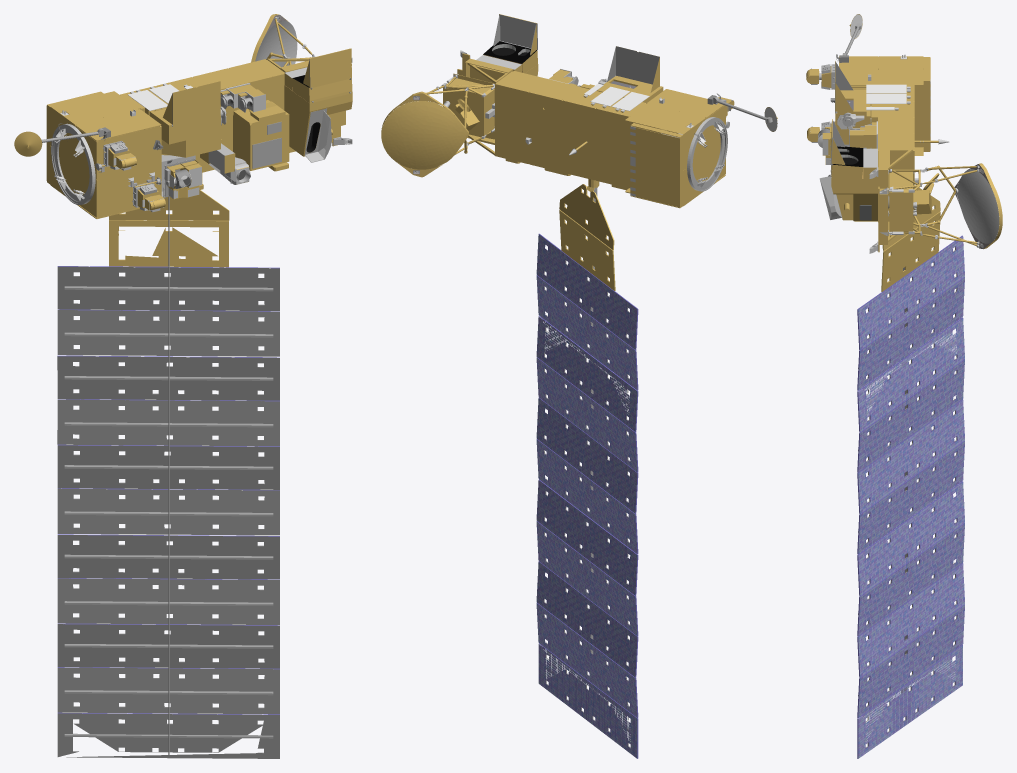
File: satellite.glb
The picture shows the model from 3 angles, left to right: view 1: azimuth 30°, elevation 25°; view 2: azimuth 150°, elevation 25°; view 3: azimuth 270°, elevation 25°; orthographic projection. The views are drawn at different scales.
Visible parts, largest first — view 1: Layer_0; view 2: Layer_0; view 3: Layer_0.
Part boxes in pixels (x1=…): Layer_0: x1=14, y1=14, x2=352, y2=758; Layer_0: x1=381, y1=14, x2=777, y2=758; Layer_0: x1=806, y1=14, x2=1002, y2=758.
Size of the model in its own units: 9.43 by 17.78 by 4.9.
